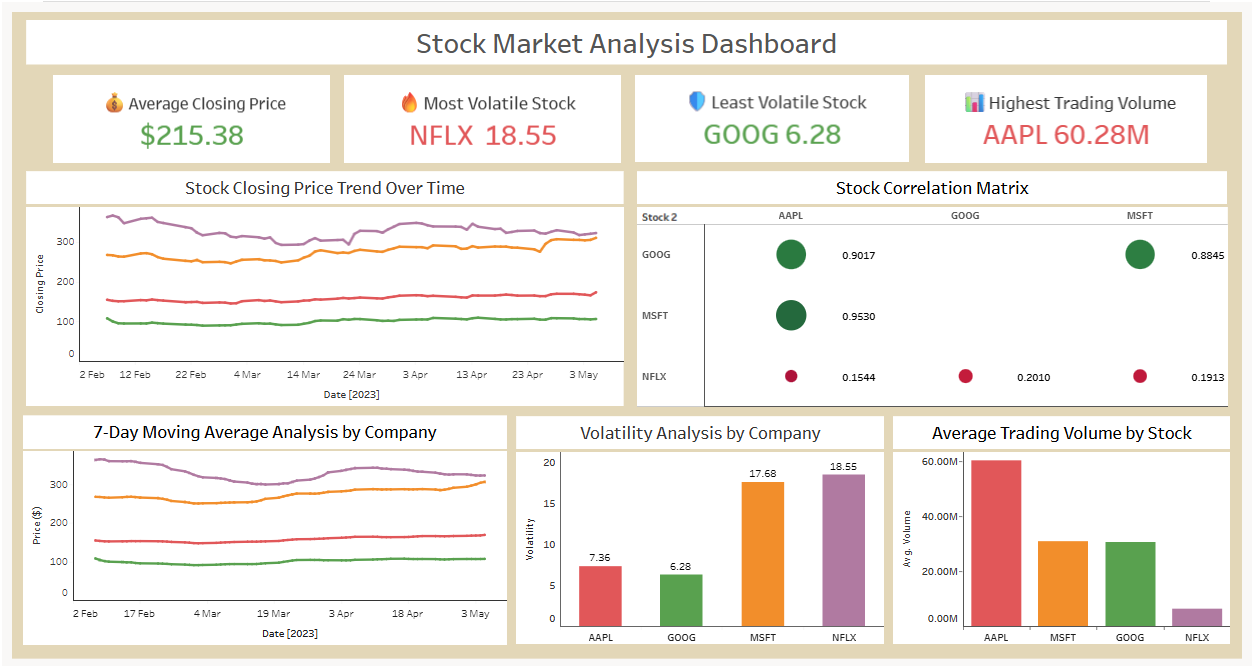

Layout of this report page (visuals, bound fields, positions):
{"tool":"tableau","page":{"name":"Stock Market Analysis Dashboard","canvas":[1500,800],"ordinal":0},"visuals":[{"type":"text","box":[29,21,1441,54]},{"type":"worksheet","title":"Highest Trading Volume","mark":"Text","box":[1108,87,338,106]},{"type":"worksheet","title":"Avg Closing Price ","mark":"Text","box":[61,88,333,105]},{"type":"worksheet","title":"Most Volatile Stock","mark":"Text","box":[410,88,333,105]},{"type":"worksheet","title":"Least Volatile Stock","mark":"Text","box":[760,88,328,104]},{"type":"worksheet","title":"Stock Price Trend","mark":"Automatic","rows":["Close"],"cols":["Date"],"box":[29,203,717,282]},{"type":"worksheet","title":"Stock Price Correlation Analysis ","mark":"Circle","rows":["Stock 2"],"cols":["Stock 1"],"box":[759,203,712,283]},{"type":"worksheet","title":"Moving Average Analysis","mark":"Automatic","rows":["Close"],"cols":["Date"],"box":[25,496,581,276]},{"type":"worksheet","title":"Volatility Analysis","mark":"Bar","rows":["Close"],"cols":["Ticker"],"box":[617,497,442,274]},{"type":"worksheet","title":"Average Daily Trading Volume","mark":"Automatic","rows":["Volume"],"cols":["Ticker"],"box":[1069,497,405,274]}]}

Visuals, with their boxes in screenshot pixels (x1, y1, x2, y2), scaled from the page's 1500x800 canvas onto the 1253x666 screenshot:
text: <region>24, 17, 1228, 62</region>
"Highest Trading Volume" worksheet (Text marks): <region>926, 72, 1208, 161</region>
"Avg Closing Price " worksheet (Text marks): <region>51, 73, 329, 161</region>
"Most Volatile Stock" worksheet (Text marks): <region>342, 73, 621, 161</region>
"Least Volatile Stock" worksheet (Text marks): <region>635, 73, 909, 160</region>
"Stock Price Trend" worksheet: <region>24, 169, 623, 404</region>
"Stock Price Correlation Analysis " worksheet (Circle marks): <region>634, 169, 1229, 405</region>
"Moving Average Analysis" worksheet: <region>21, 413, 506, 643</region>
"Volatility Analysis" worksheet (Bar marks): <region>515, 414, 885, 642</region>
"Average Daily Trading Volume" worksheet: <region>893, 414, 1231, 642</region>
